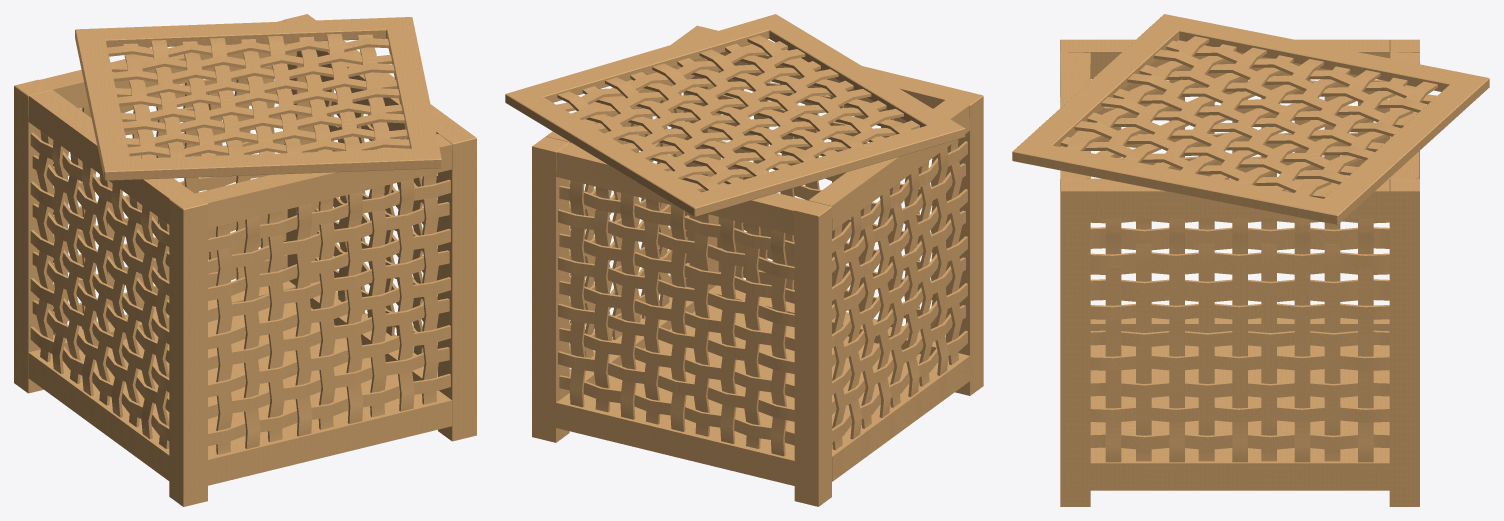
File: IKEA-HOL_side_table_basket-3D.FBX
3 views of the same model, side by side, from view 1: azimuth 30°, elevation 25°; view 2: azimuth 150°, elevation 25°; view 3: azimuth 270°, elevation 25° (orthographic). The views are drawn at different scales.
Parts seen in each view (by area): view 1: Box029; view 2: Box029; view 3: Box029.
Boxes of the visible parts, <box> form: Box029: <box>14,14,476,506</box>; Box029: <box>505,14,983,506</box>; Box029: <box>1012,14,1489,506</box>.
Bounding box in the file's own units: 0.6636 × 0.6636 × 0.5.
1 material, 1 textured.
